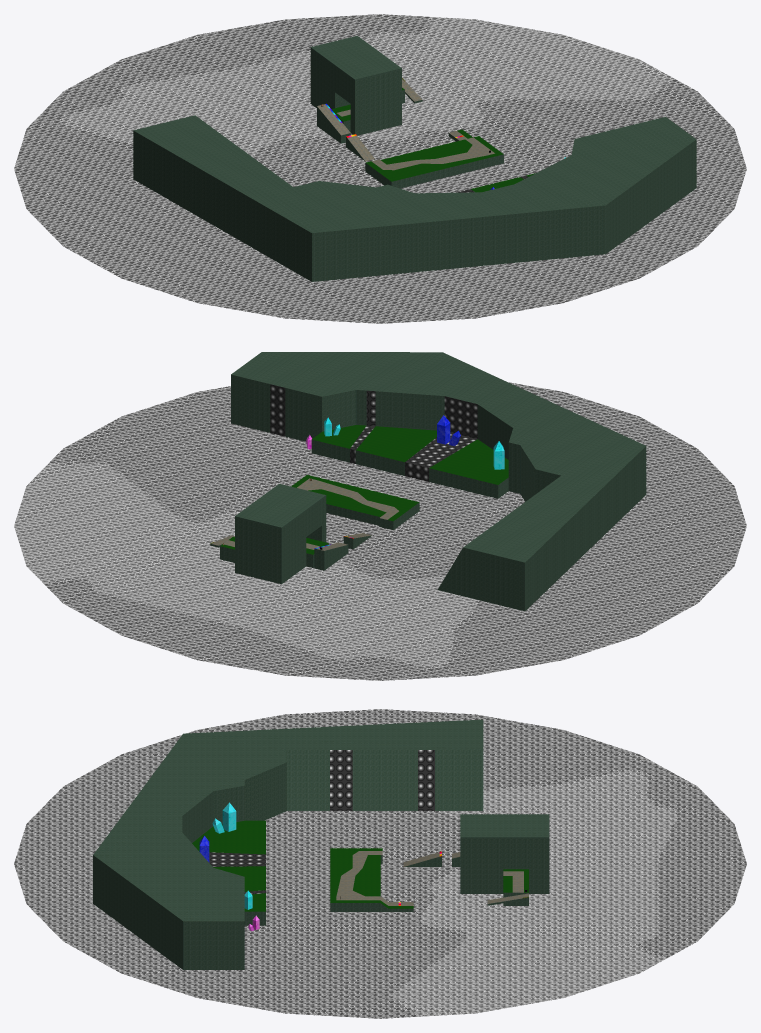
The picture shows the model from 3 angles, top to bottom: view 1: azimuth 30°, elevation 25°; view 2: azimuth 150°, elevation 25°; view 3: azimuth 270°, elevation 25°; orthographic projection.
Parts seen in each view (by area): view 1: mmo_model-SKP--water-blue, mmo_model-SKP--wall, mmo_model-SKP--water-pink, mmo_model-SKP--grass, mmo_model-SKP--road; view 2: mmo_model-SKP--water-blue, mmo_model-SKP--wall, mmo_model-SKP--water-pink, mmo_model-SKP--grass, mmo_model-SKP--waterfall, mmo_model-SKP--road; view 3: mmo_model-SKP--water-blue, mmo_model-SKP--wall, mmo_model-SKP--water-pink, mmo_model-SKP--grass, mmo_model-SKP--waterfall, mmo_model-SKP--road, mmo_model-SKP--crystalcyan.
Part boxes in pixels (<box>): mmo_model-SKP--water-blue: <box>14,14,746,323</box>; mmo_model-SKP--wall: <box>133,35,696,281</box>; mmo_model-SKP--water-pink: <box>61,16,674,156</box>; mmo_model-SKP--grass: <box>331,104,535,192</box>; mmo_model-SKP--road: <box>317,79,494,170</box>; mmo_model-SKP--water-blue: <box>45,382,746,680</box>; mmo_model-SKP--wall: <box>210,352,646,611</box>; mmo_model-SKP--water-pink: <box>14,462,478,667</box>; mmo_model-SKP--grass: <box>228,425,508,554</box>; mmo_model-SKP--waterfall: <box>270,384,477,481</box>; mmo_model-SKP--road: <box>211,478,398,550</box>; mmo_model-SKP--water-blue: <box>14,709,746,1018</box>; mmo_model-SKP--wall: <box>93,719,549,969</box>; mmo_model-SKP--water-pink: <box>390,770,678,1016</box>; mmo_model-SKP--grass: <box>192,820,528,911</box>; mmo_model-SKP--waterfall: <box>209,750,434,894</box>; mmo_model-SKP--road: <box>336,851,528,905</box>; mmo_model-SKP--crystalcyan: <box>212,802,252,909</box>.
Size of the model in its own units: 326122 by 28290 by 326122.
18 materials, 18 textured.
